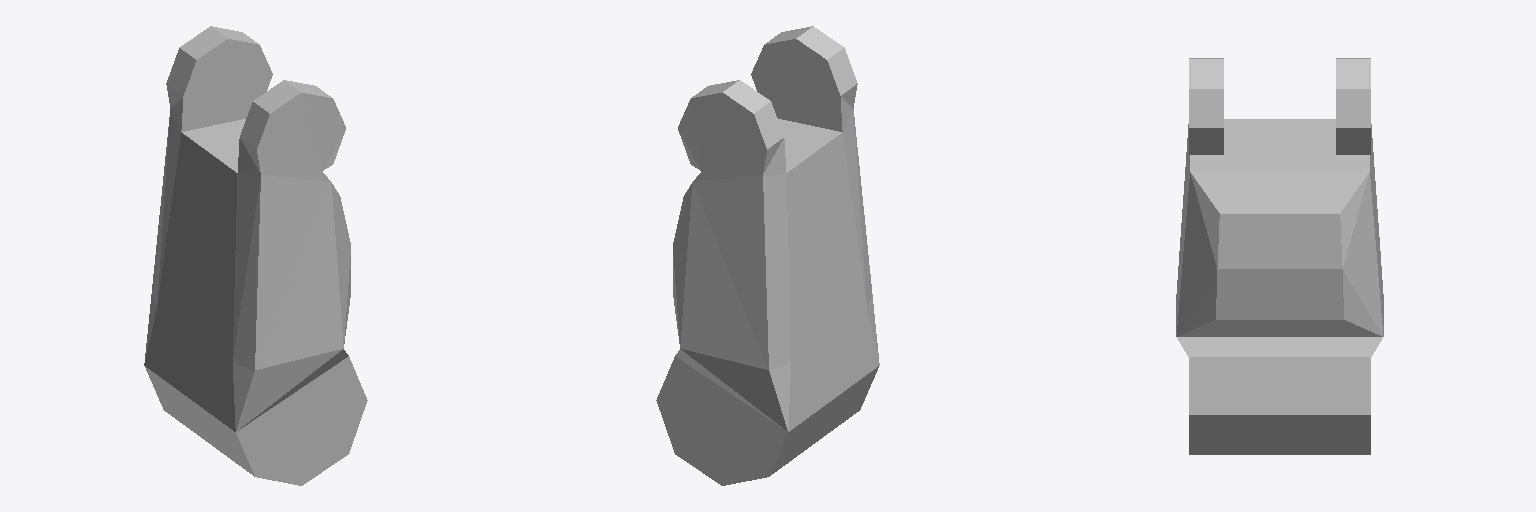
File: pinkyj1_left.obj
The picture shows the model from 3 angles: view 1: azimuth 30°, elevation 25°; view 2: azimuth 150°, elevation 25°; view 3: azimuth 270°, elevation 25°; orthographic projection.
Visible parts, largest first — view 1: Cylinder_001; view 2: Cylinder_001; view 3: Cylinder_001.
Boxes of the visible parts, x1,y1,x2,y2 form: Cylinder_001: [144, 26, 367, 485]; Cylinder_001: [656, 26, 879, 485]; Cylinder_001: [1176, 58, 1383, 454].
Size of the model in its own units: 0.019 by 0.0541 by 0.0258.